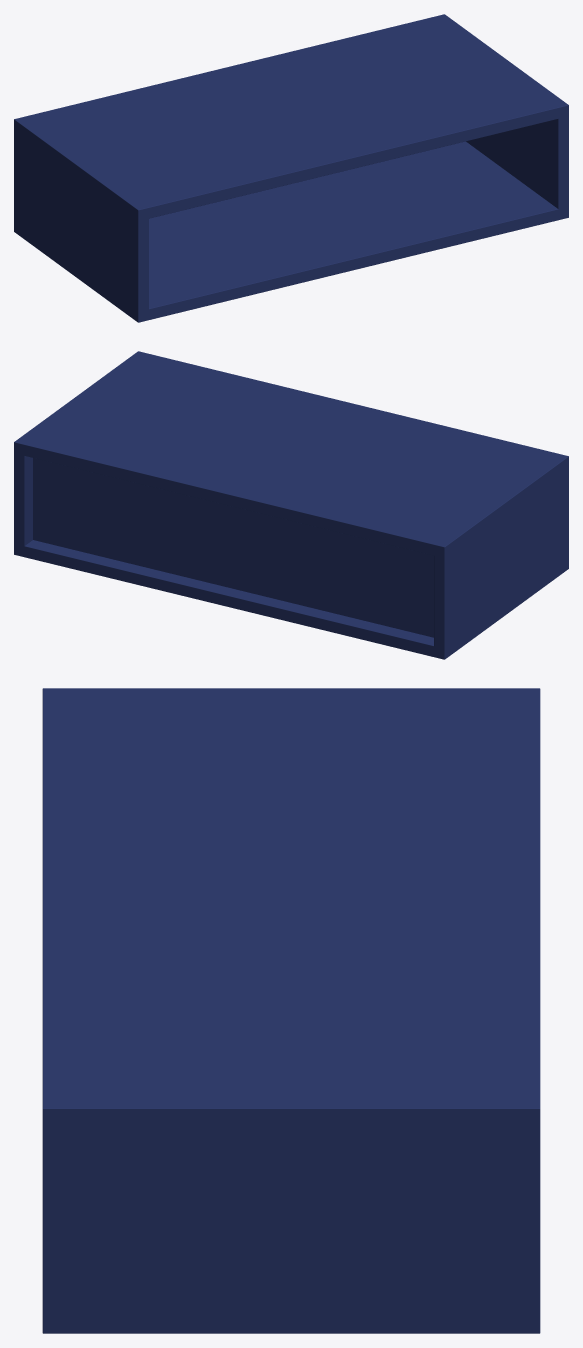
Rendered from MOD_2X05_A_B_AF.glb.
The picture shows the model from 3 angles, top to bottom: view 1: azimuth 30°, elevation 25°; view 2: azimuth 150°, elevation 25°; view 3: azimuth 270°, elevation 25°; orthographic projection. The views are drawn at different scales.
Bounding box in the file's own units: 720 × 180 × 360.
